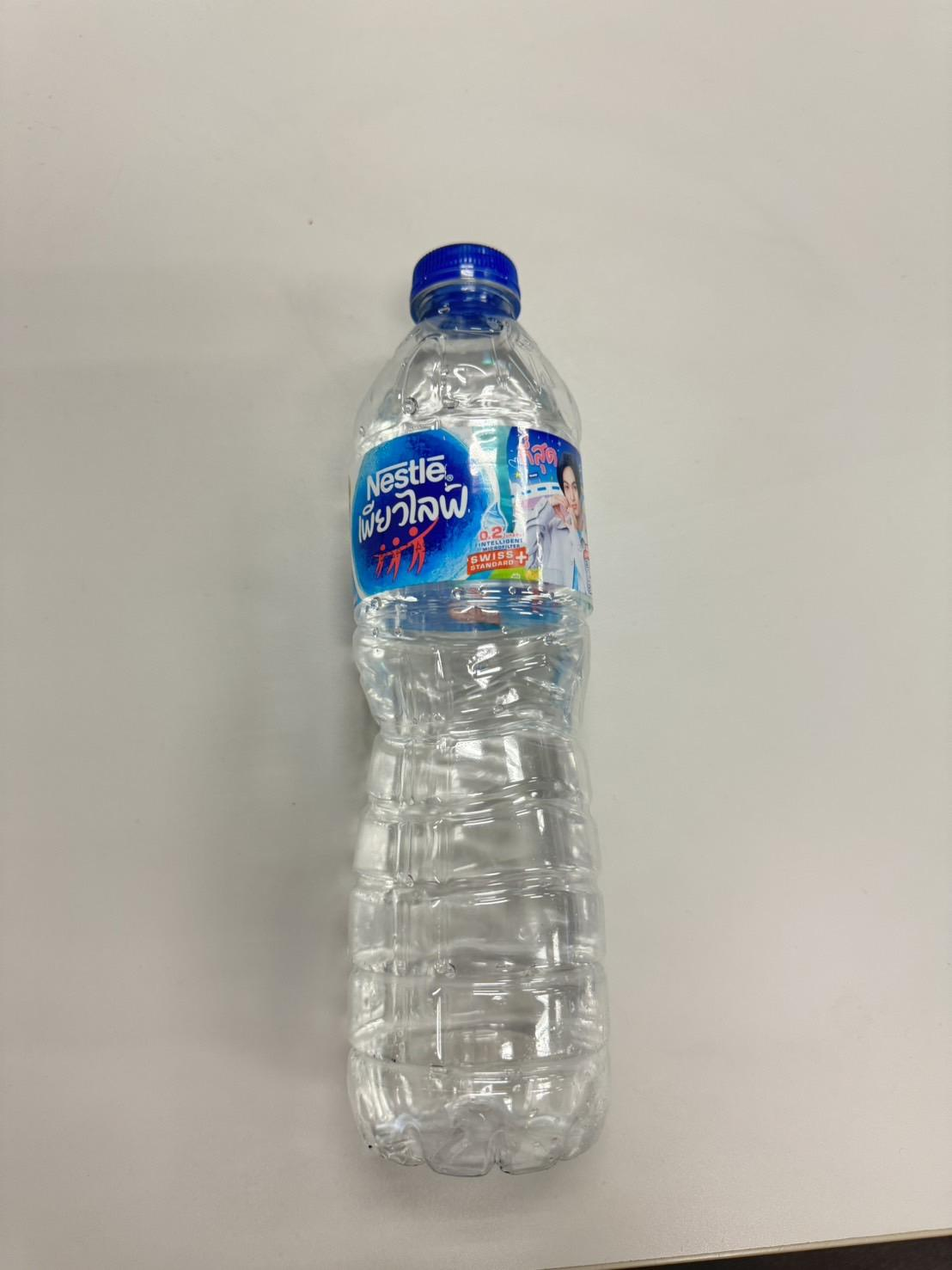Bottle: (348, 242, 608, 1175)
